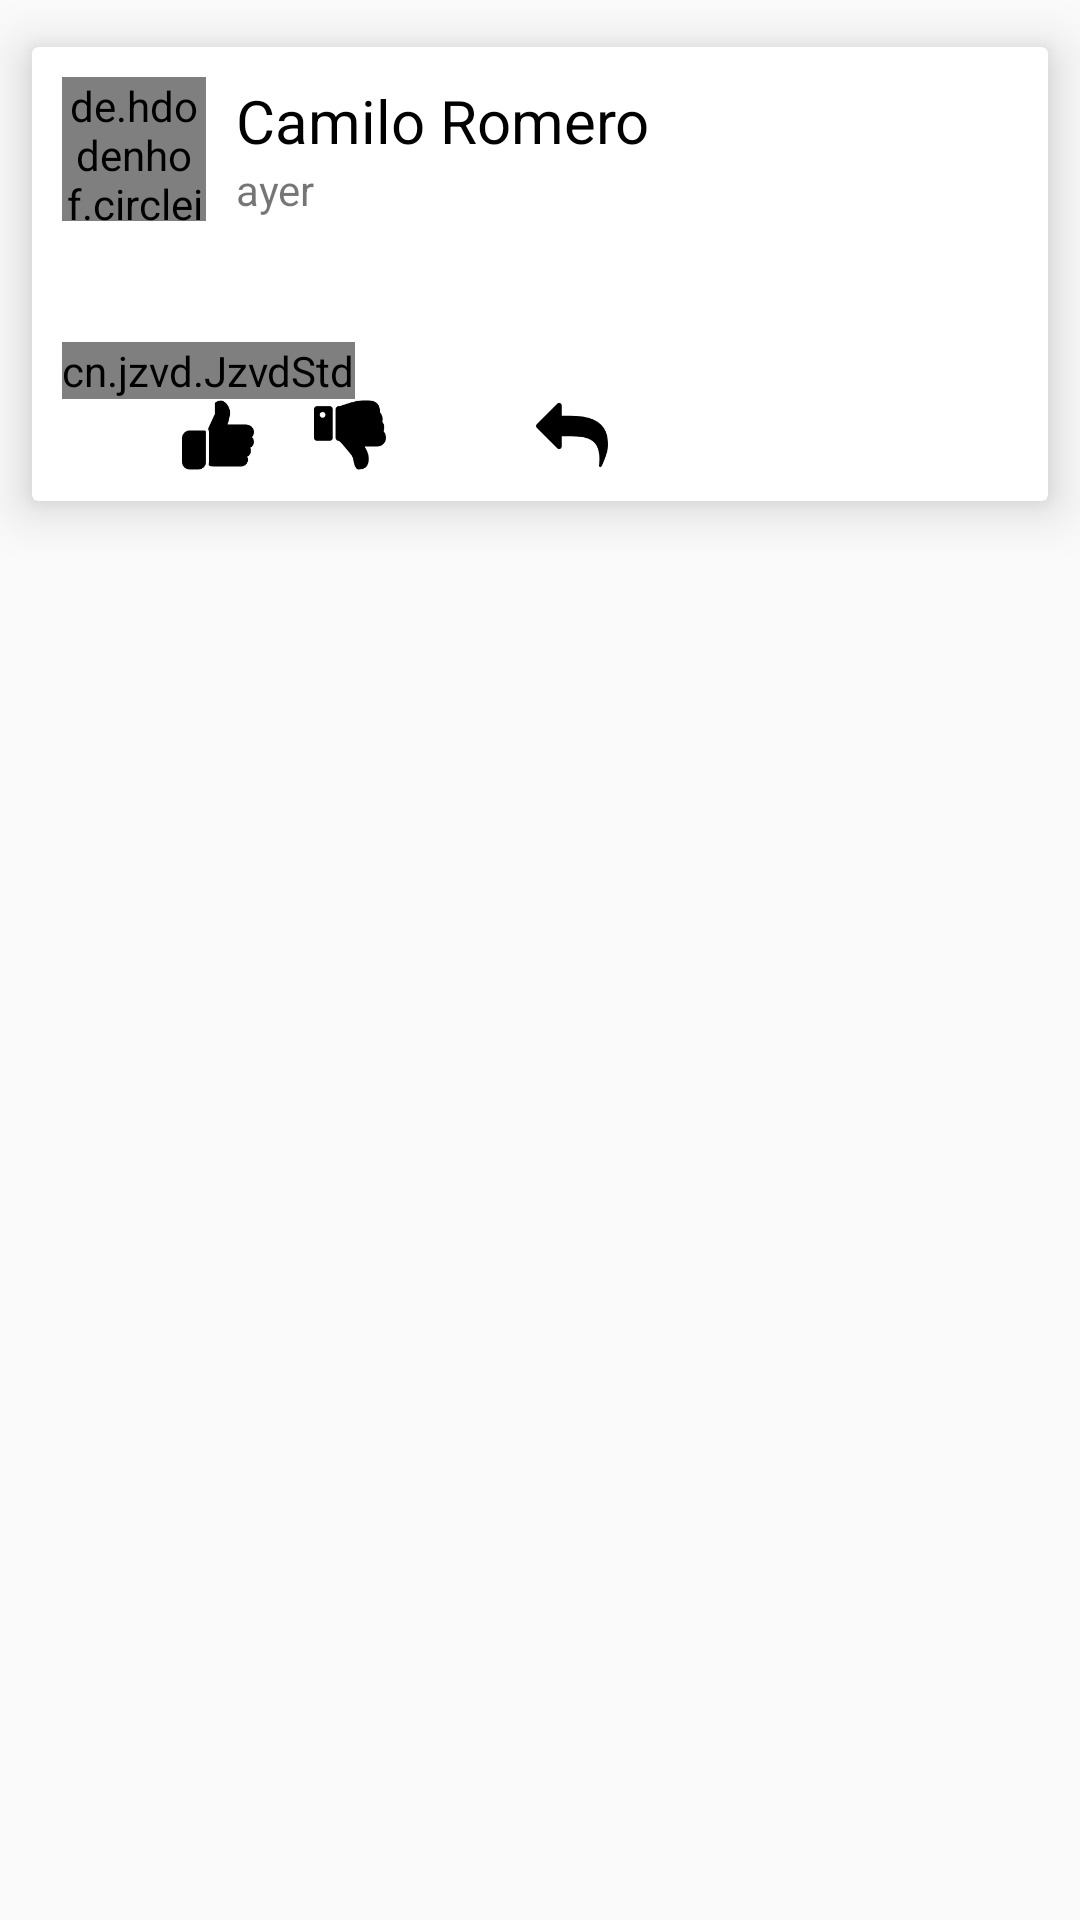

Where to tap for icons on this 1080x1920 app screen, as (x,y):
megusta: (218,435)
nomegusta: (350,435)
reponder: (572,435)
